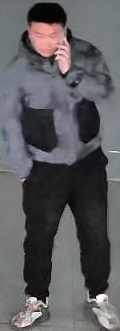phone: (22, 3, 115, 105)
